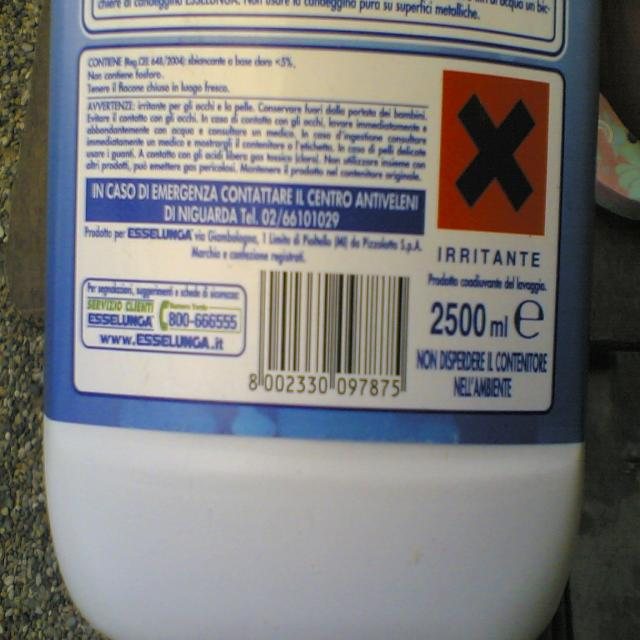barcode: (245, 267, 415, 405)
